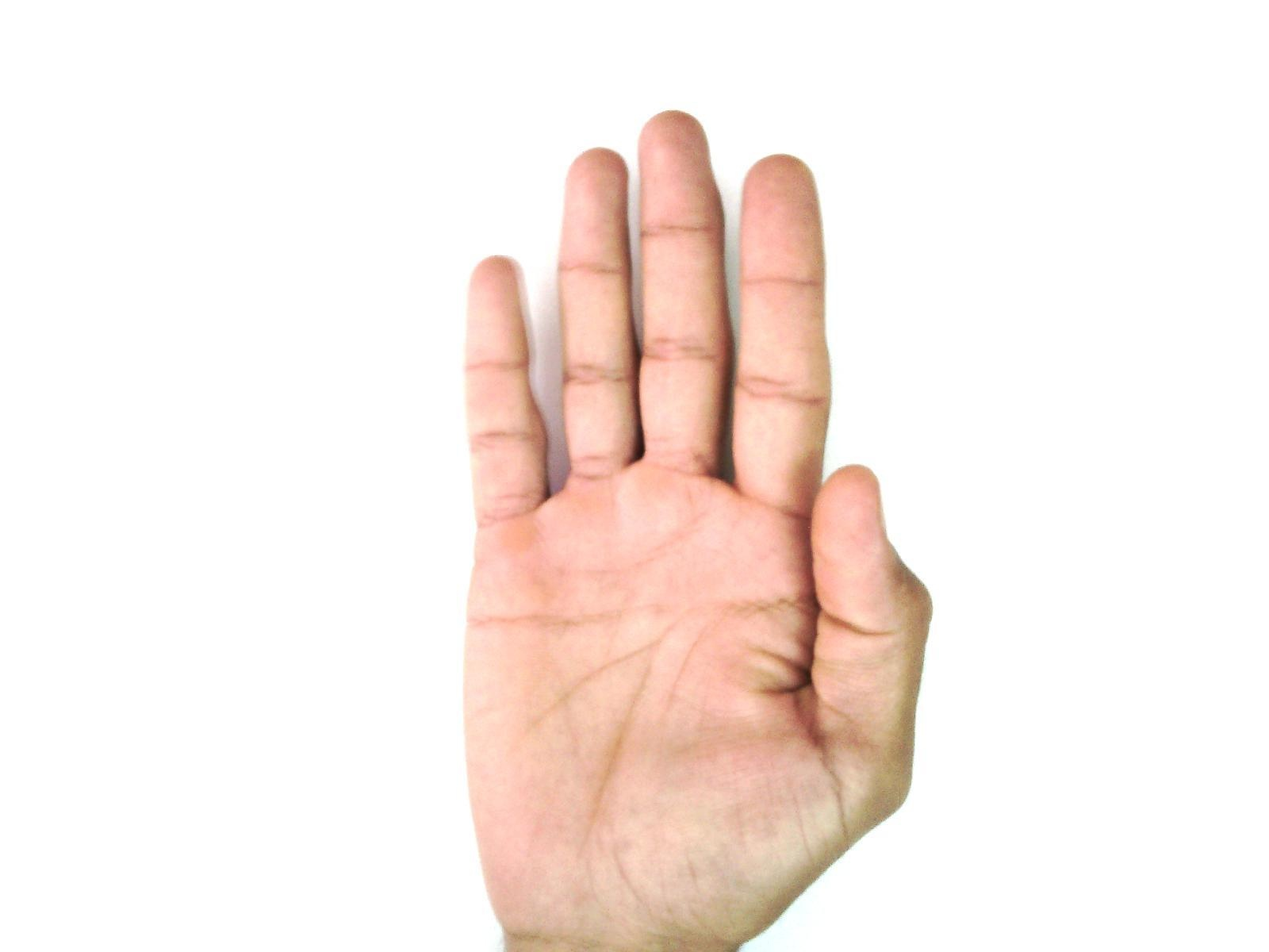open_palm: (457, 109, 936, 950)
